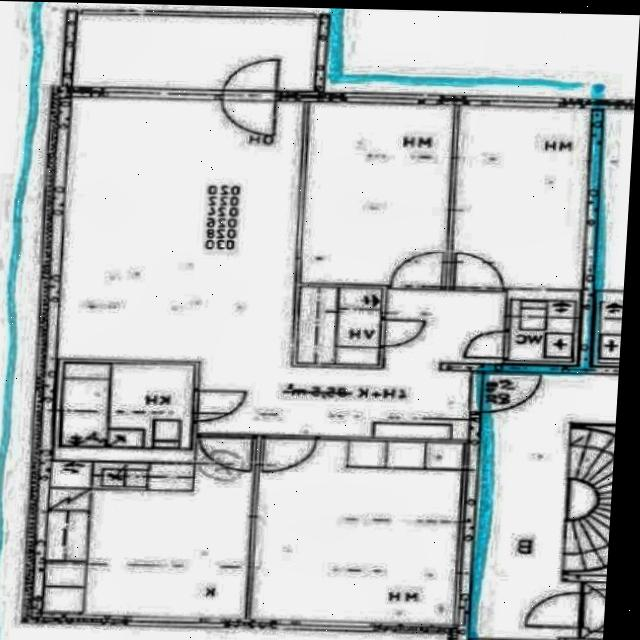room: (43, 426, 256, 623), (251, 438, 465, 624), (302, 101, 454, 286), (452, 99, 594, 292), (60, 361, 196, 448), (296, 286, 382, 363), (508, 286, 577, 363)
